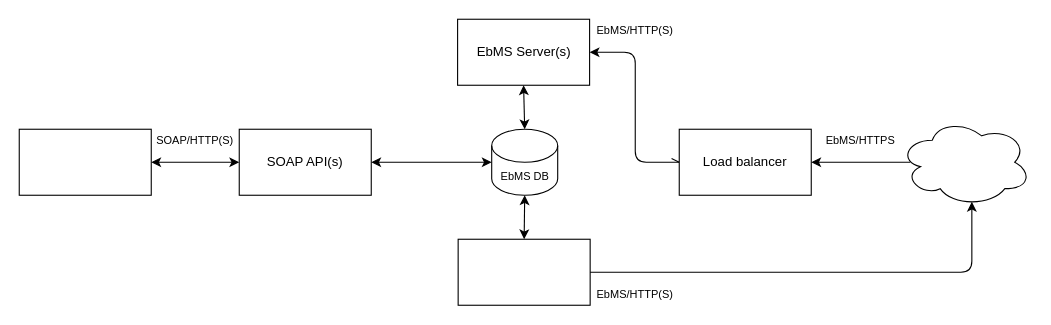
Some shapes in this 1051 by 325 pixel diagram are drawn without their labels. The centre of each missing label's shape, as x and y in pixels:
"Application" belongs at point (84, 161).
"EbMS Client(s)" belongs at point (523, 271).
